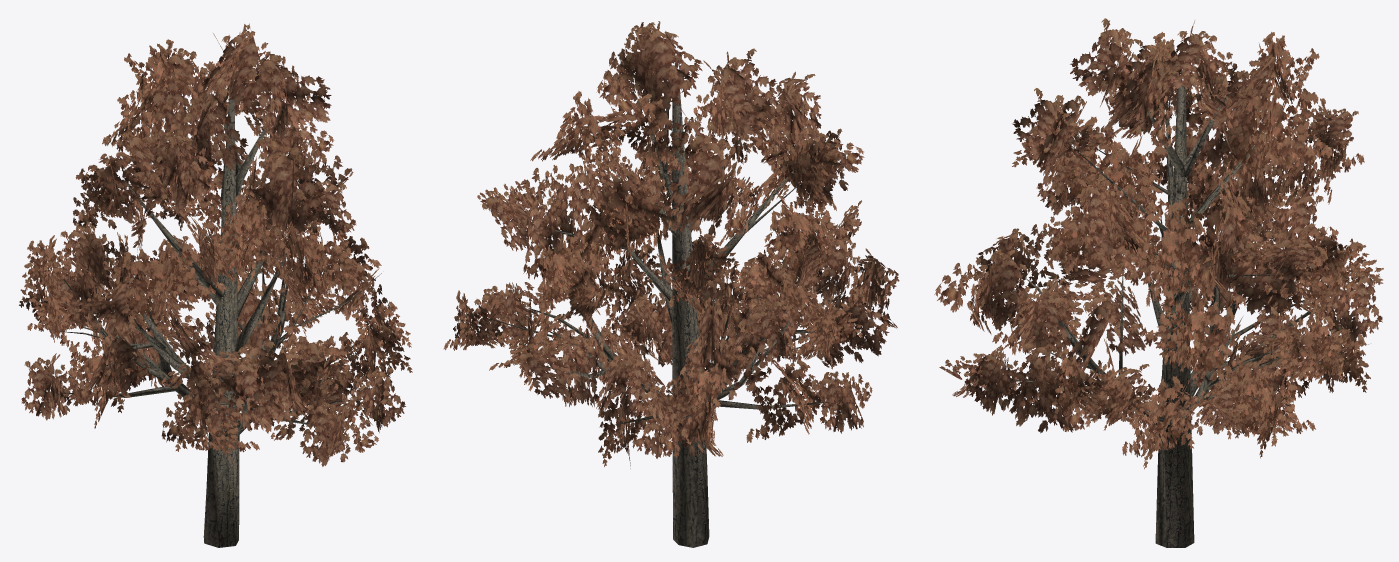
File: Vegetation_Tree02b.glb
3 views of the same model, side by side, from view 1: azimuth 30°, elevation 25°; view 2: azimuth 150°, elevation 25°; view 3: azimuth 270°, elevation 25° (orthographic). The views are drawn at different scales.
Visible parts, largest first — view 1: zw_tree02b_0; view 2: zw_tree02b_0; view 3: zw_tree02b_0.
Part boxes in pixels (left/top/right/bottom): zw_tree02b_0: left=19, top=23, right=412, bottom=547; zw_tree02b_0: left=443, top=21, right=899, bottom=547; zw_tree02b_0: left=934, top=18, right=1383, bottom=547.
Bounding box in the file's own units: 19.52 × 24.16 × 18.6.
Materials: 2 (2 with a texture image).
